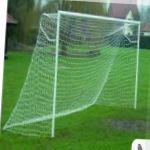goals: (6, 7, 144, 140)
